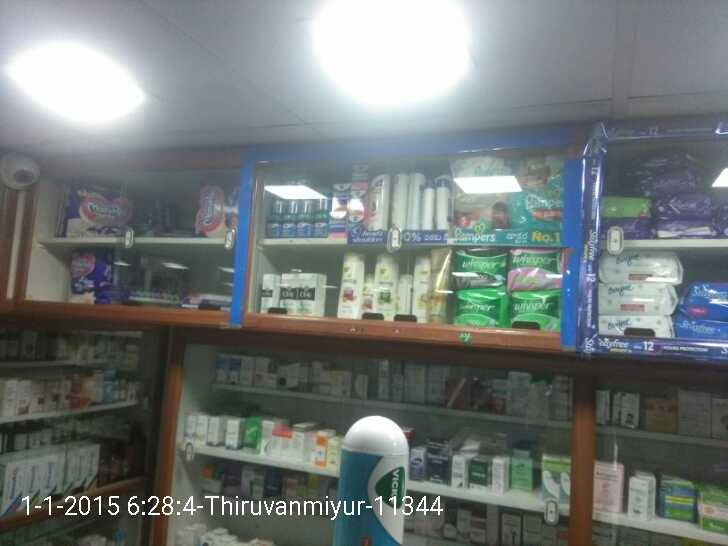vicks: (335, 414, 406, 546), (266, 168, 365, 242)
